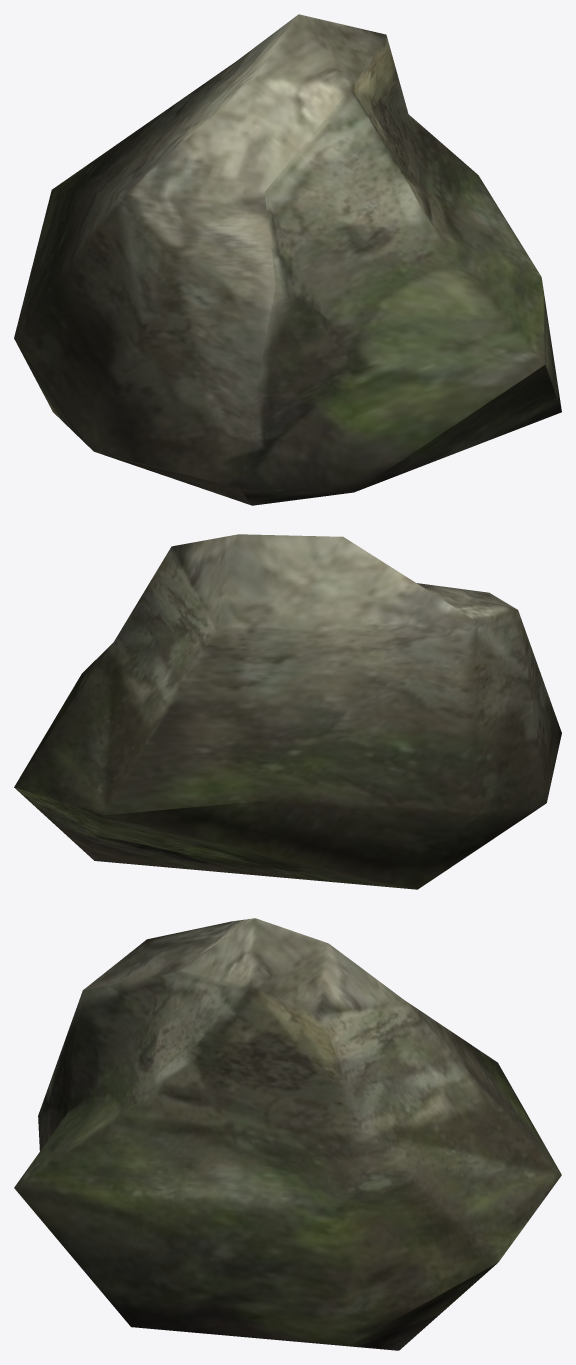
File: rock_4_sphere.fbx
3 views of the same model, one above another, from view 1: azimuth 30°, elevation 25°; view 2: azimuth 150°, elevation 25°; view 3: azimuth 270°, elevation 25° (orthographic). The views are drawn at different scales.
Parts seen in each view (by area): view 1: rock_1; view 2: rock_1; view 3: rock_1.
Boxes of the visible parts, x1,y1,x2,y2 form: rock_1: (14, 14, 561, 505); rock_1: (14, 534, 561, 889); rock_1: (14, 918, 561, 1350).
Size of the model in its own units: 198 by 146 by 205.
1 material, 1 textured.
